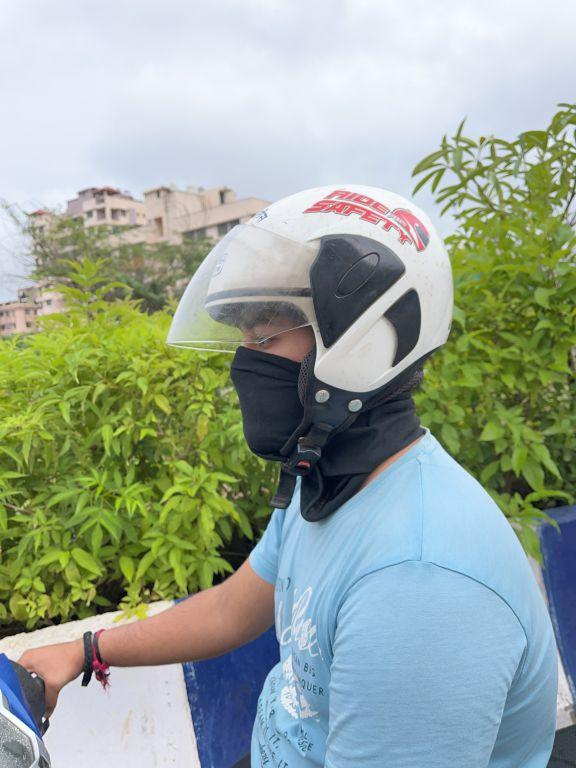helmet: (159, 169, 461, 469)
